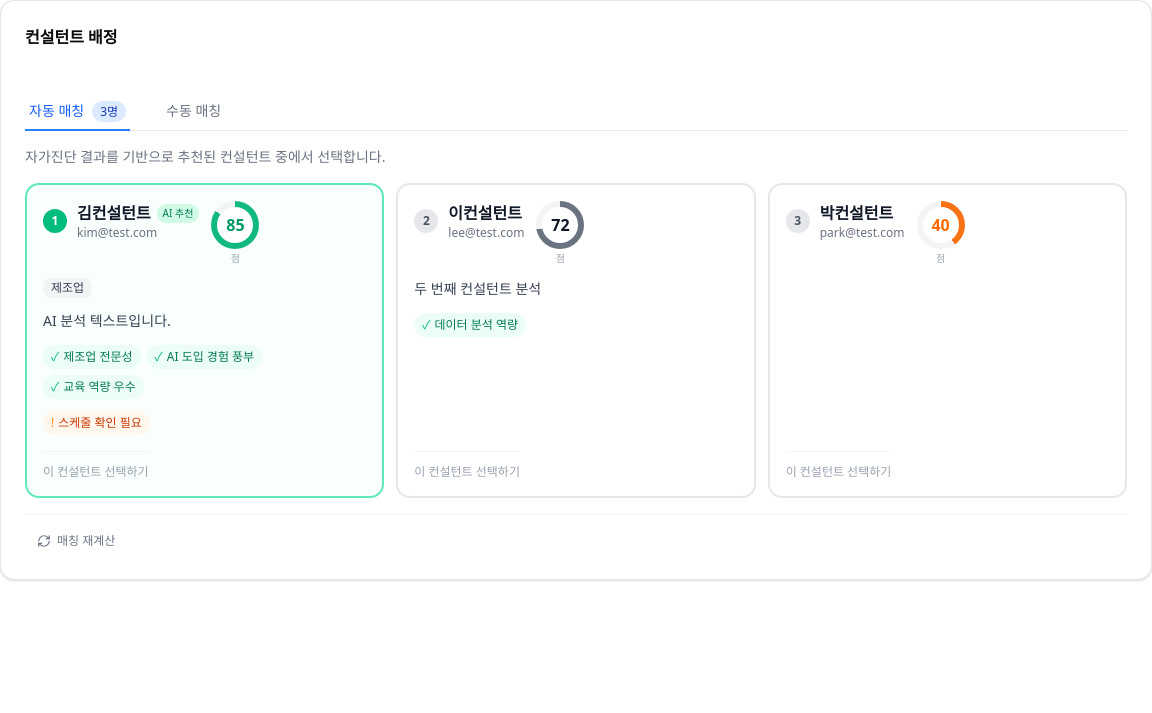
Test: AssignmentTabSection › 추천 결과 표시 › 컨설턴트 카드 클릭 시 배정 사유 입력란이 나타난다
Expected: the field with placeholder "해당 컨설턴트를 배정하는 사유" is not shown
첫 번째 카드 클릭
Click the text "김컨설턴트": (114, 213) [77,201,151,225]
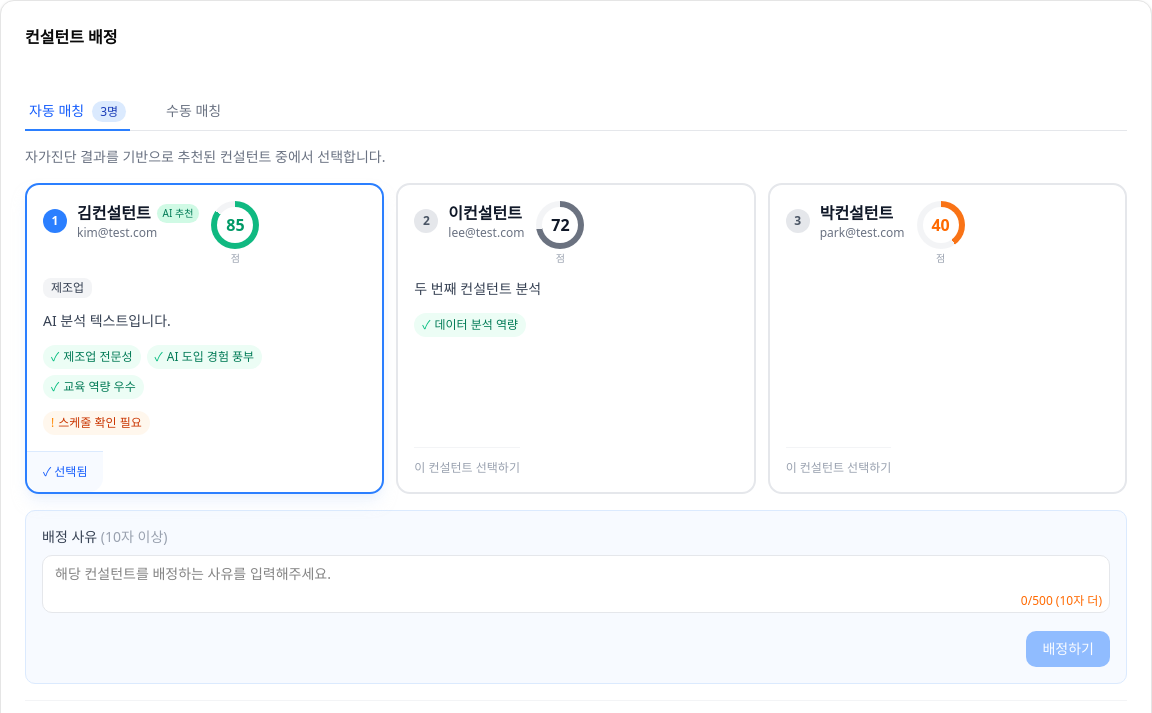
Expected: the text box with placeholder "해당 컨설턴트를 배정하는 사유를 입력해주세요." is shown, [42,555,1110,613]
